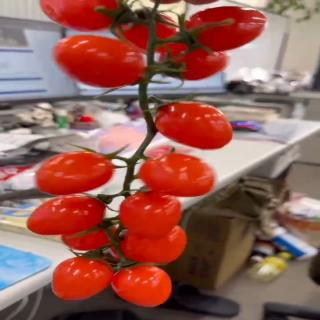tomato: (50, 36, 146, 90), (182, 4, 266, 51), (157, 103, 236, 152), (35, 154, 116, 199), (140, 153, 219, 199), (28, 196, 107, 237), (35, 0, 135, 31), (110, 11, 180, 55), (120, 191, 182, 239), (119, 223, 187, 266), (158, 41, 231, 81), (110, 262, 173, 308), (51, 257, 114, 302), (62, 217, 120, 251)
